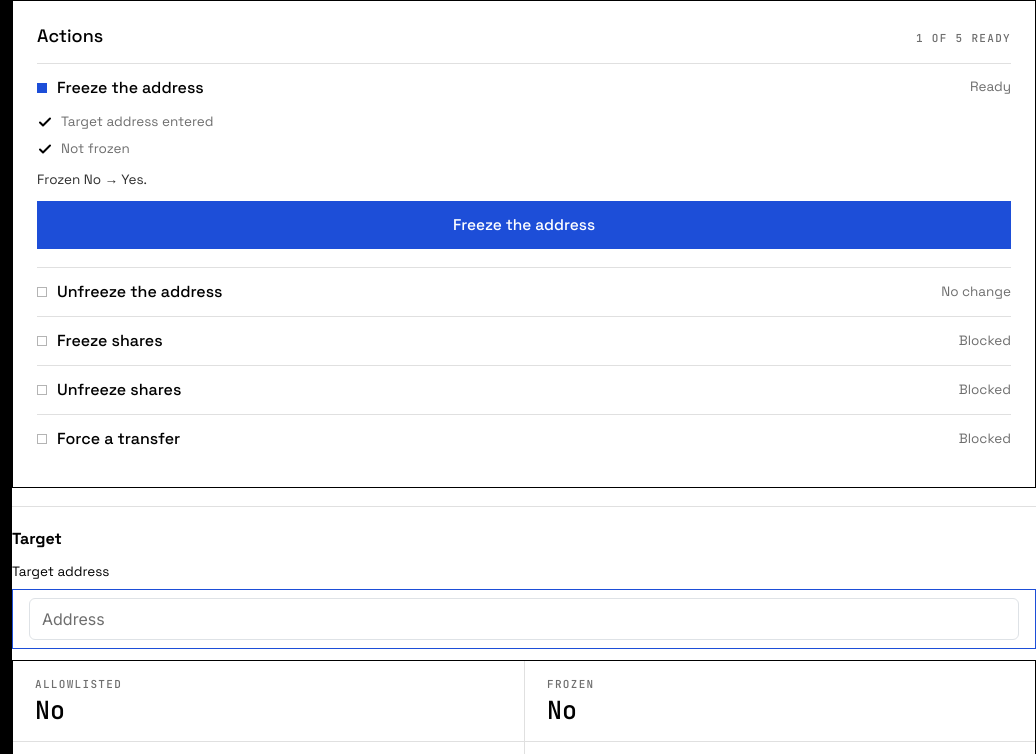
Test: ComplianceSection › clears a vault confirmation when the target changes
The image size is (1036, 754).
Type "CABQGAYDAMBQGAYDAMBQGAYDAMBQGAYDAMBQGAYDAMBQGAYDAMBQGCK3" into the field labelled "Target address". click: coordinates (524, 618)
box: [29,598,1019,640]
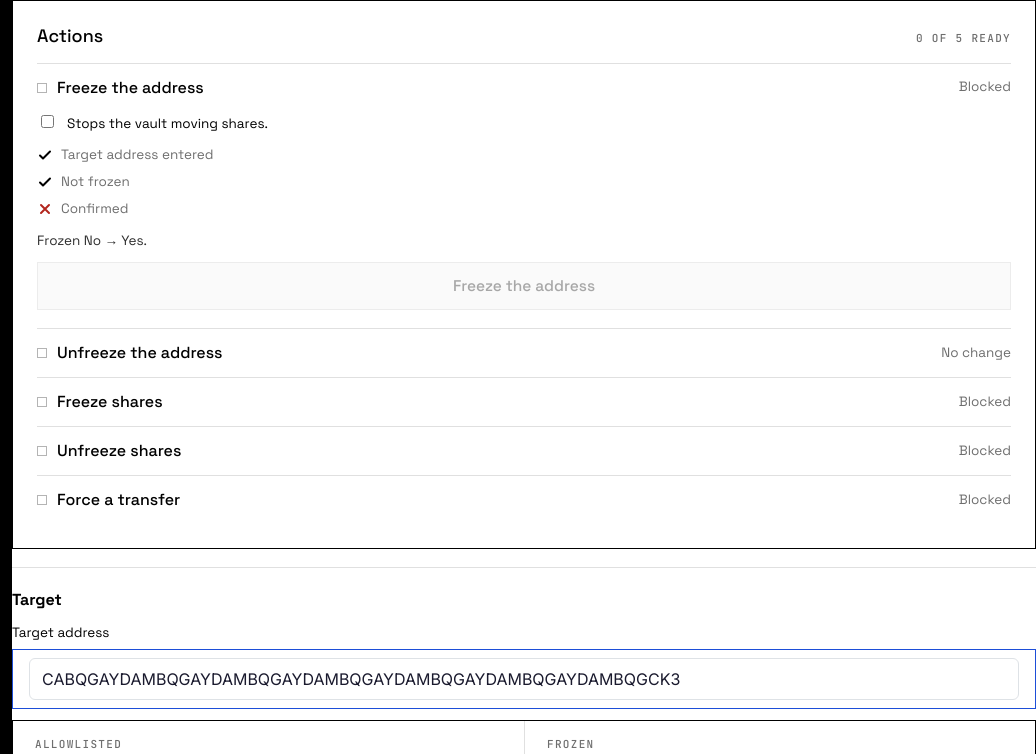
Click the checkbox labelled "Stops the vault moving shares.". click: coordinates (48, 121)
box: [41,114,54,128]
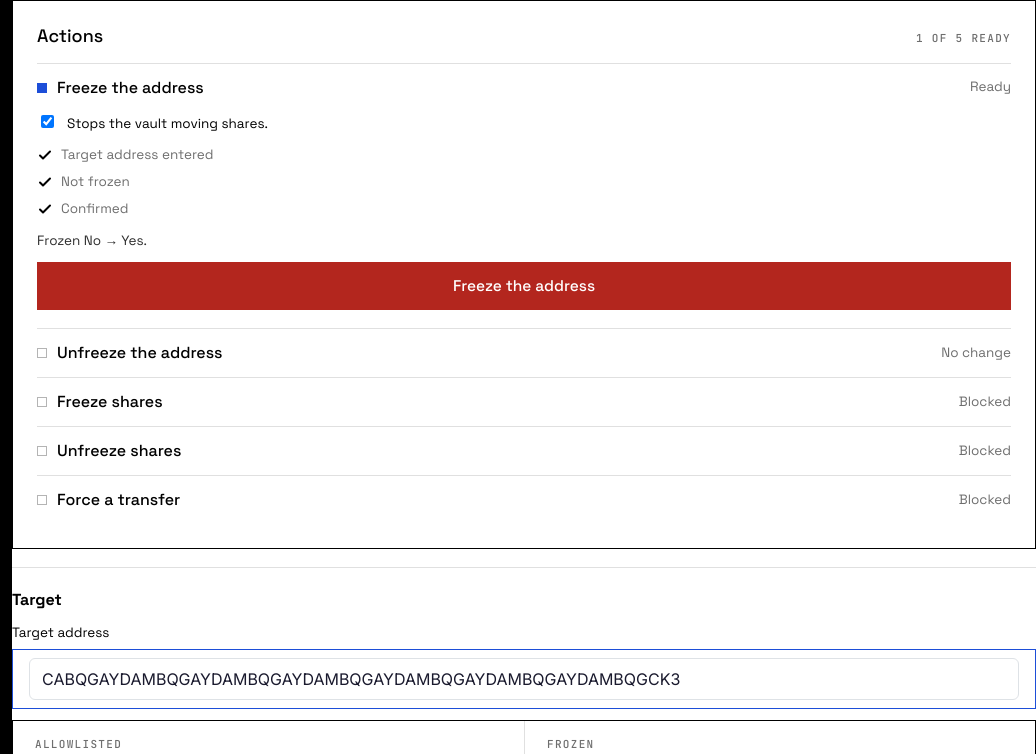
Check: the checkbox labelled "Stops the vault moving shares." is checked, box [41,114,54,128]
Replace the text in the field labelled "Target address" with "GDPO5SQDJY4E2XEE47MAOT2M2F3GR4H2AYYKSMIOT2YPOHAMC36VKWIA". click: coordinates (524, 679)
box: [29,658,1019,700]
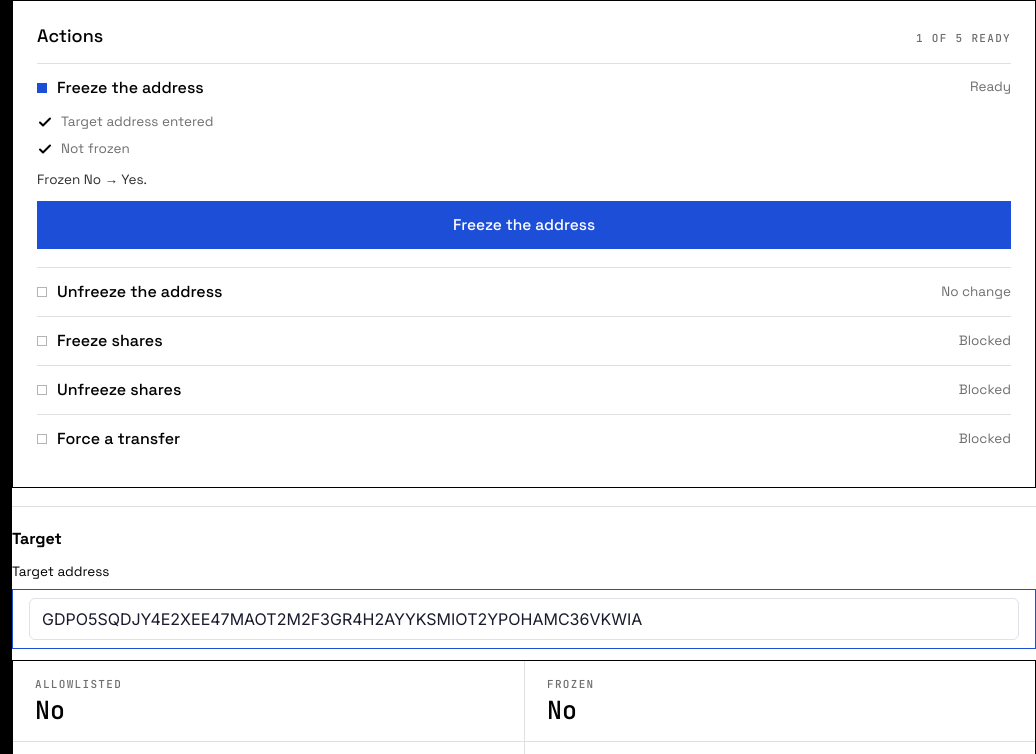
Replace the text in the field labelled "Target address" with "CABQGAYDAMBQGAYDAMBQGAYDAMBQGAYDAMBQGAYDAMBQGAYDAMBQGCK3". click: coordinates (524, 618)
box: [29,598,1019,640]
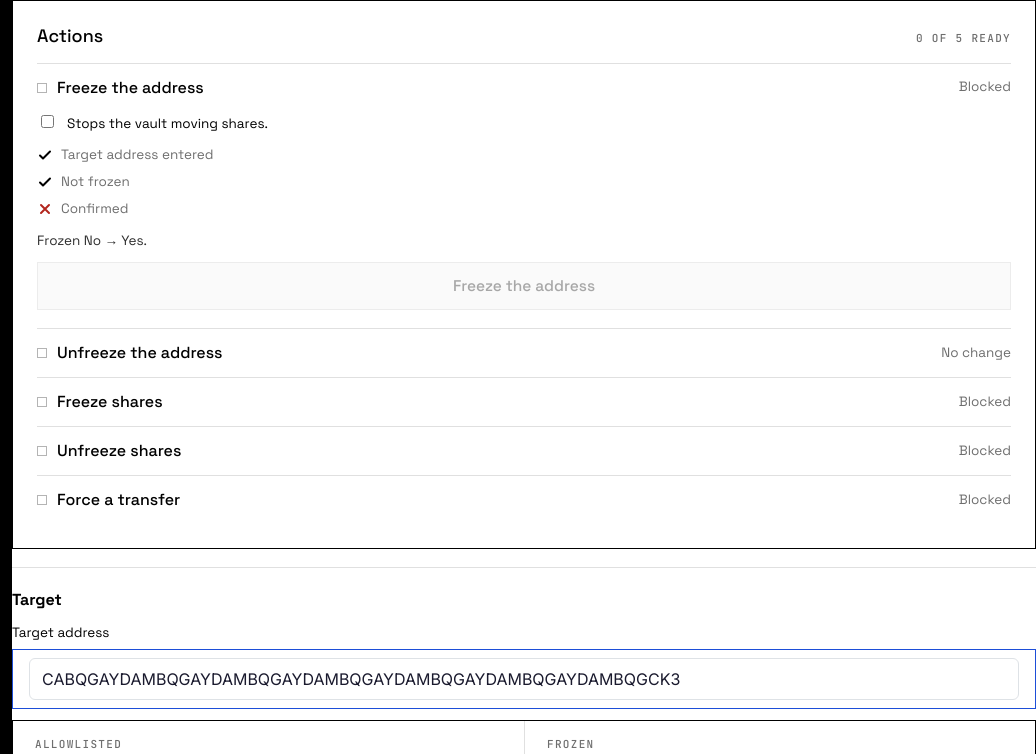
Check: the checkbox labelled "Stops the vault moving shares." is not checked, box [41,114,54,128]
